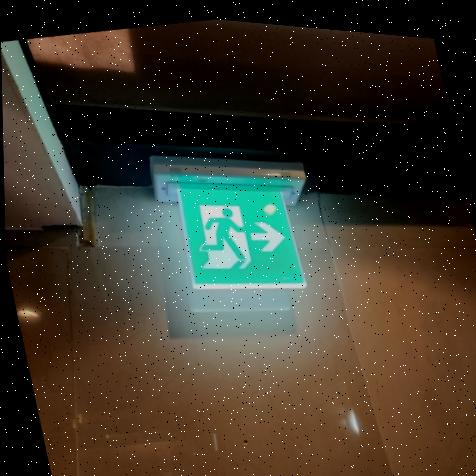emergency_exit: (172, 180, 306, 291)
